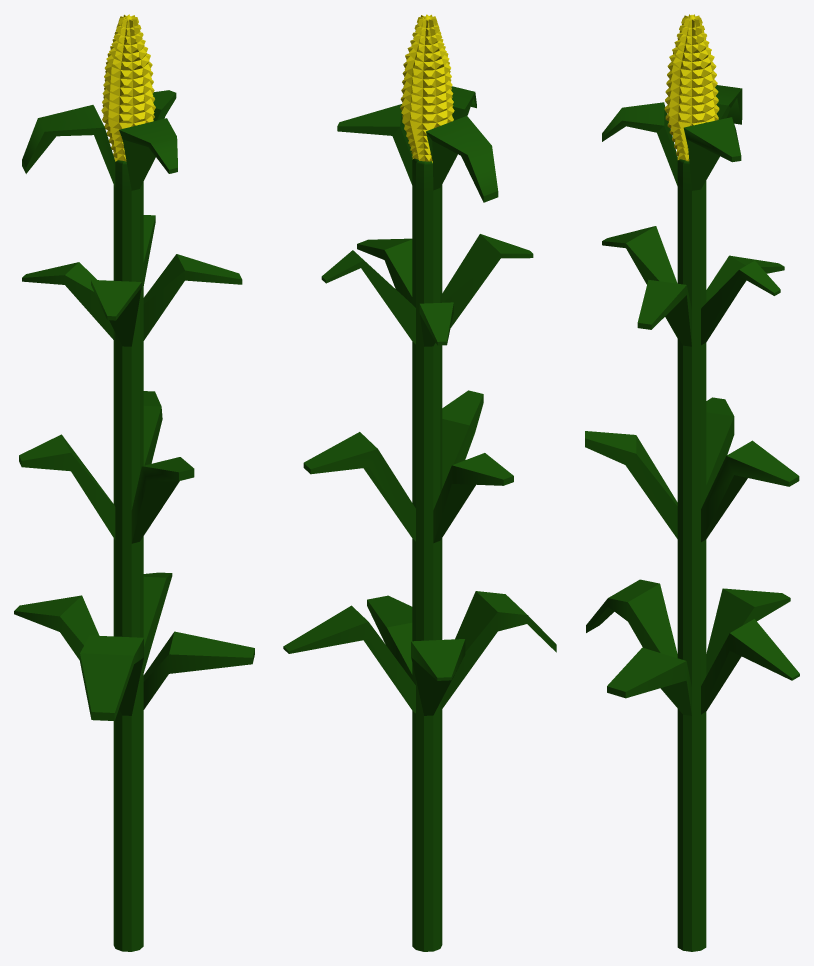
Rendered from Corn.fbx.
3 views of the same model, side by side, from view 1: azimuth 30°, elevation 25°; view 2: azimuth 150°, elevation 25°; view 3: azimuth 270°, elevation 25° (orthographic).
Parts seen in each view (by area): view 1: Corn; view 2: Corn; view 3: Corn.
Boxes of the visible parts, x1,y1,x2,y2 form: Corn: (14, 14, 254, 951); Corn: (283, 14, 556, 951); Corn: (585, 14, 799, 951).
Size of the model in its own units: 2.02 by 9.43 by 1.97.
